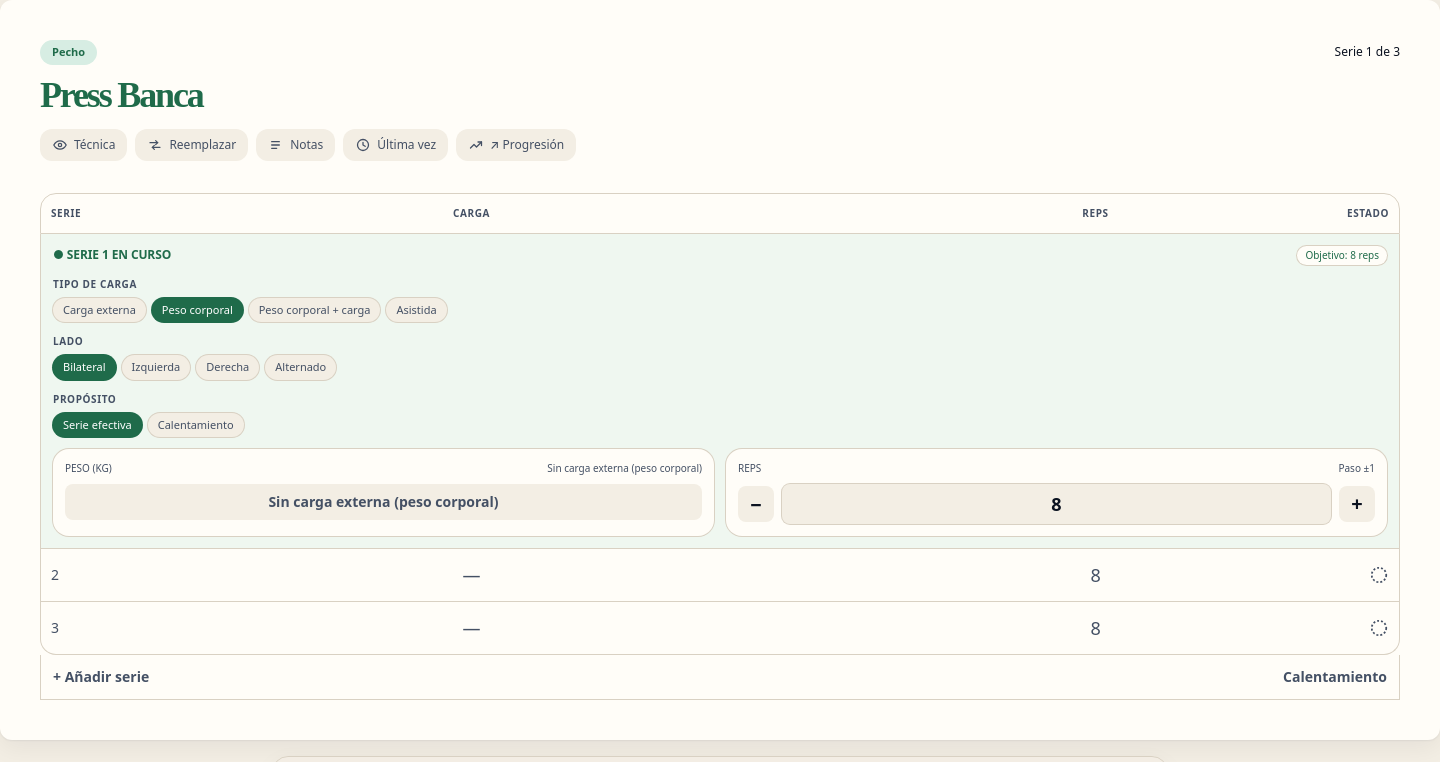
Scenario: GuidedExerciseCard › comparable progression › does not request an external cohort for bodyweight
Click the button with aria-label "Mostrar progresión comparable". click: click(516, 144)
box: [456, 128, 576, 160]
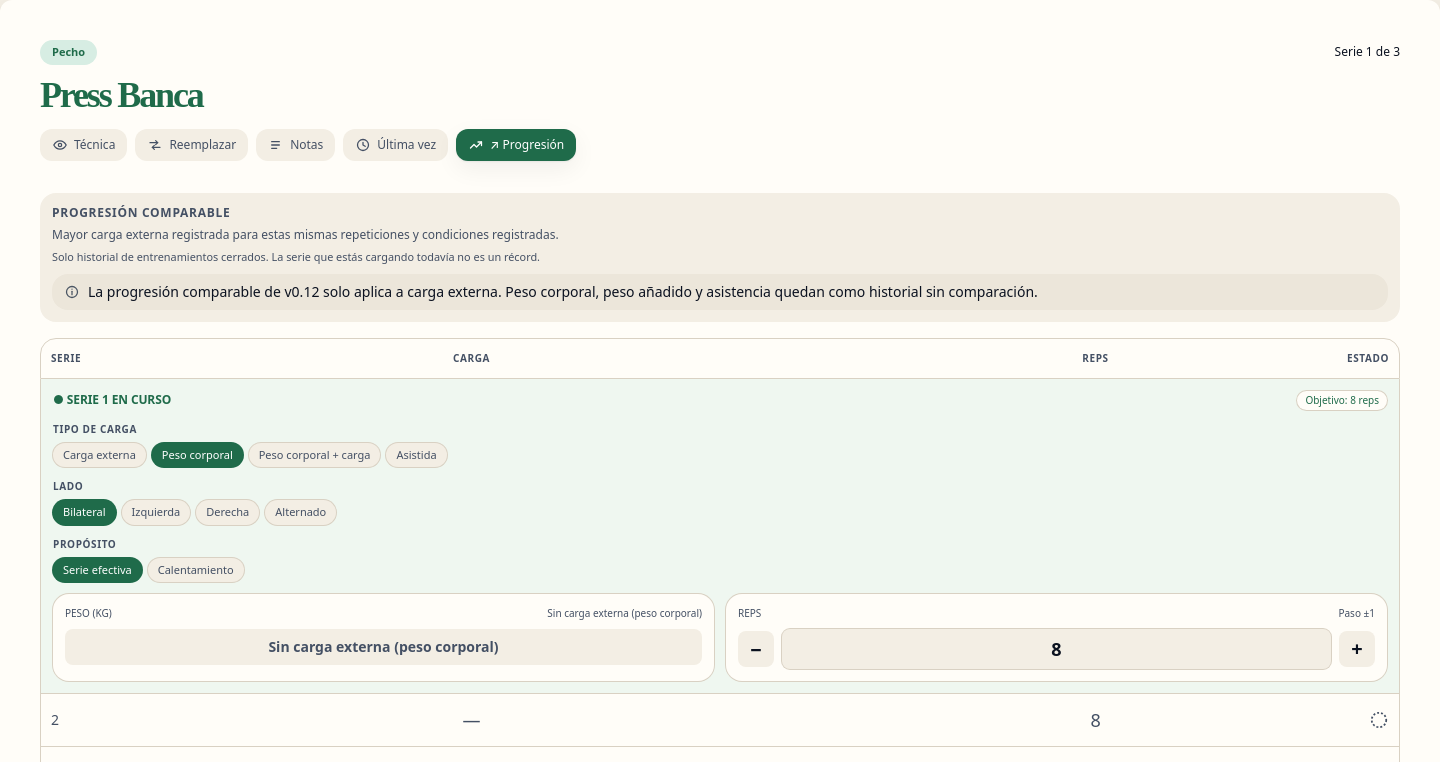
Check: the element with test id "progression-unsupported" is shown, box [52, 274, 1388, 310]
